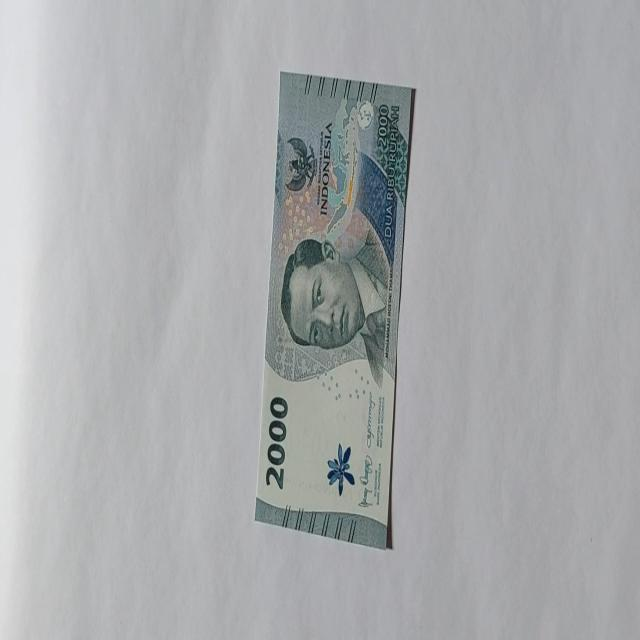dua ribu rupiah: (252, 71, 416, 549), (280, 208, 390, 387)
